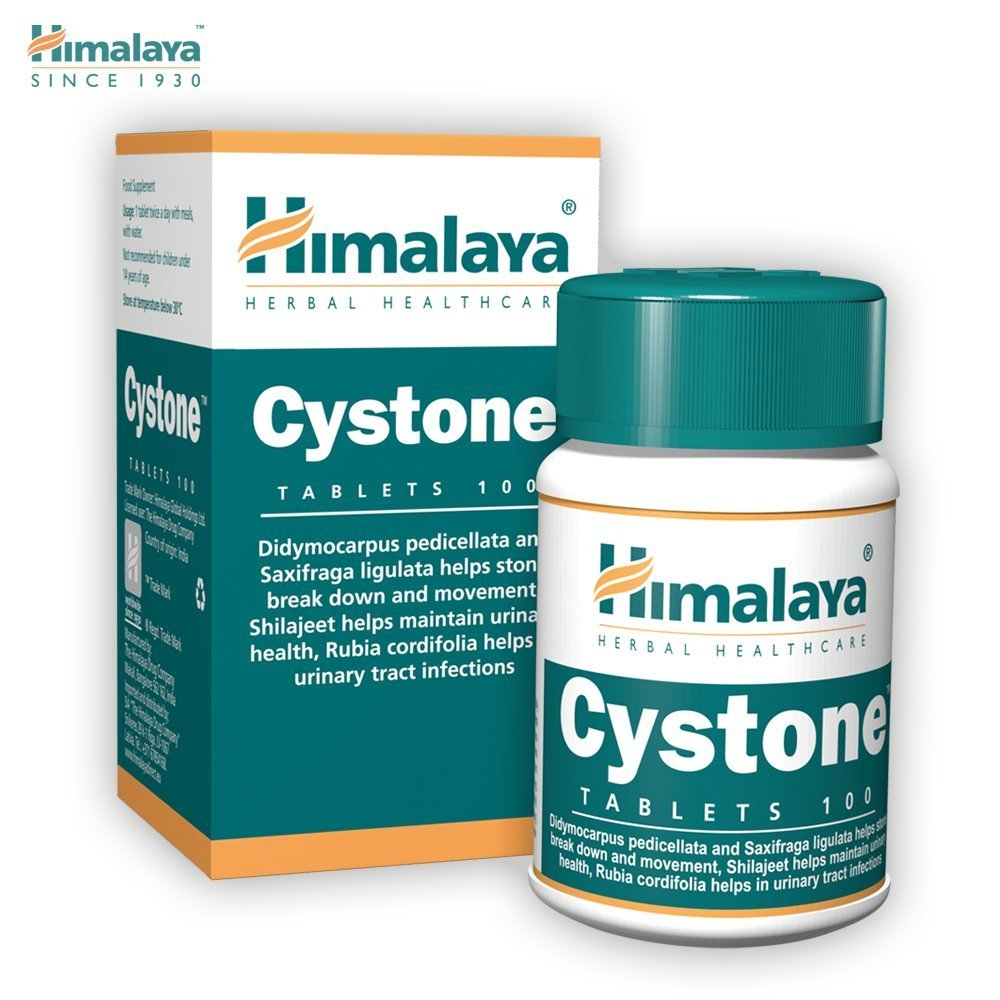Medicine: (95, 115, 615, 888), (525, 248, 915, 950)
